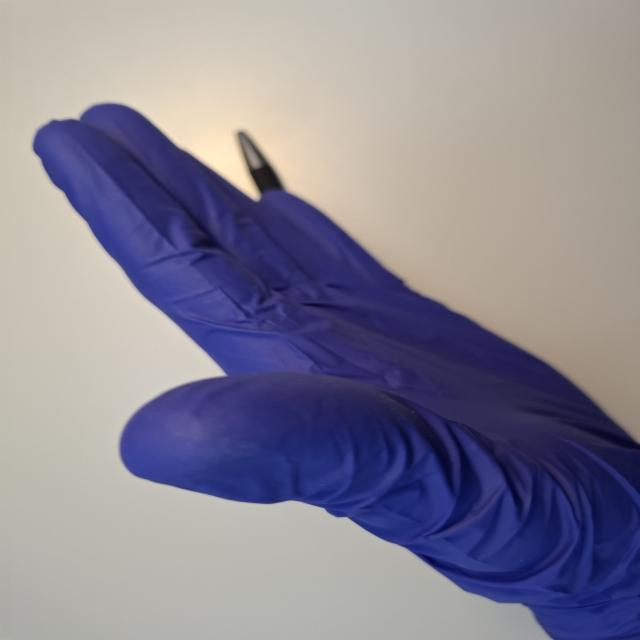glove_on: (29, 98, 640, 640)
